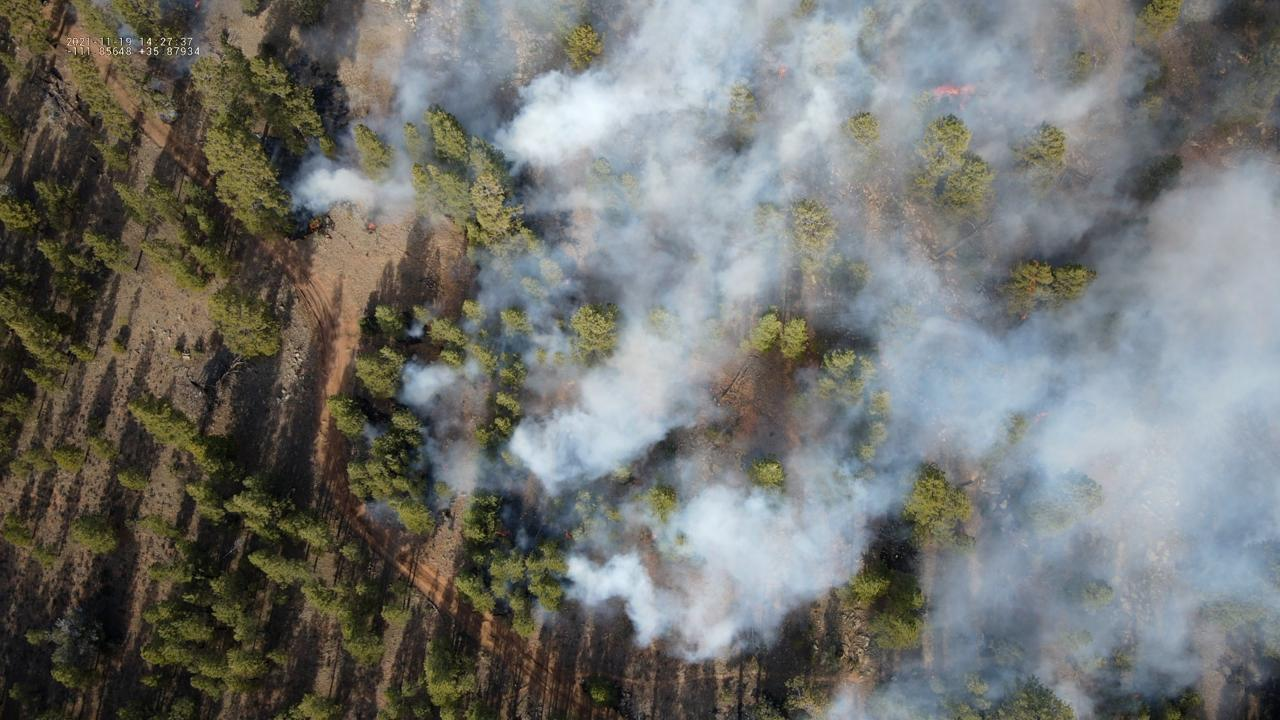fire: (933, 83, 979, 111), (777, 64, 787, 81), (309, 219, 321, 233), (1034, 409, 1047, 421), (498, 528, 512, 536), (194, 0, 202, 10), (367, 222, 376, 230), (565, 530, 571, 539)
smoke: (287, 0, 1280, 720), (175, 0, 213, 81), (116, 26, 142, 49)
